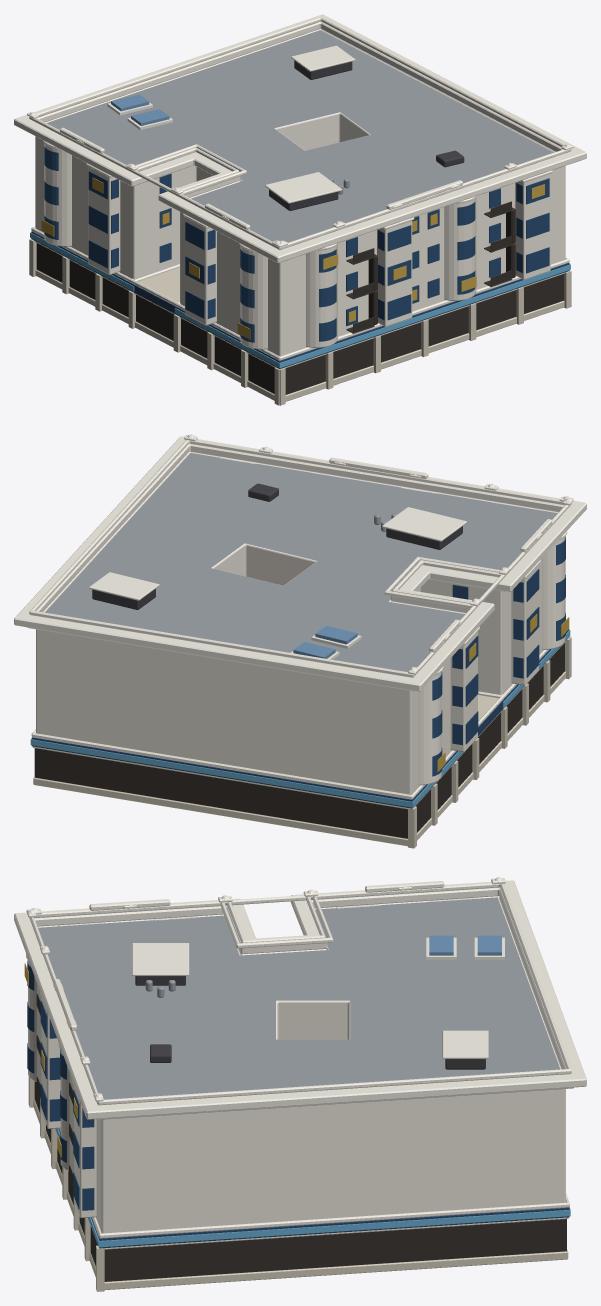
The model's file is 500-van-ness.glb.
3 views of the same model, one above another, from view 1: azimuth 30°, elevation 25°; view 2: azimuth 150°, elevation 25°; view 3: azimuth 270°, elevation 25° (orthographic). The views are drawn at different scales.
Parts seen in each view (by area): view 1: body, cornice, shopfront, parapet, plinth, fascia_glow, bay6, bay4, bay0, bay7, bay3, bay5 (+13 smaller); view 2: body, cornice, shopfront, parapet, plinth, fascia_glow, belt, fascia, bay0, bay3, penthouse_cap, bay2 (+9 smaller); view 3: body, cornice, shopfront, parapet, plinth, fascia_glow, belt, fascia, penthouse_cap, cornice_sub, bay7, parapet_court (+7 smaller).
Part boxes in pixels (box(x1,y1,x2,y2)): body: box(35, 30, 565, 394); cornice: box(14, 14, 586, 263); shopfront: box(36, 243, 563, 394); parapet: box(29, 17, 571, 249); plinth: box(35, 269, 564, 401); fascia_glow: box(30, 232, 570, 368); bay6: box(444, 197, 476, 300); bay4: box(306, 244, 337, 347); bay0: box(44, 143, 71, 246); bay7: box(515, 173, 550, 279); bay3: box(240, 246, 267, 349); bay5: box(377, 220, 412, 326); body: box(36, 453, 563, 838); cornice: box(14, 436, 586, 691); shopfront: box(34, 643, 564, 838); parapet: box(29, 440, 571, 677); plinth: box(33, 671, 565, 846); fascia_glow: box(30, 630, 570, 807); belt: box(31, 649, 548, 799); fascia: box(31, 629, 569, 808); bay0: box(418, 671, 441, 785); bay3: box(542, 536, 565, 649); penthouse_cap: box(382, 507, 466, 541); bay2: box(511, 564, 538, 685); body: box(38, 897, 565, 1281); cornice: box(14, 880, 586, 1119); shopfront: box(34, 1081, 566, 1281); parapet: box(29, 882, 571, 1105); plinth: box(33, 1099, 568, 1289); fascia_glow: box(40, 1083, 570, 1247); belt: box(59, 1128, 569, 1238); fascia: box(58, 1128, 569, 1248); penthouse_cap: box(132, 943, 189, 975); cornice_sub: box(37, 896, 573, 1119); bay7: box(74, 1087, 96, 1218); parapet_court: box(220, 895, 333, 948).
Bounding box in the file's own units: 43.29 × 17 × 45.1.
